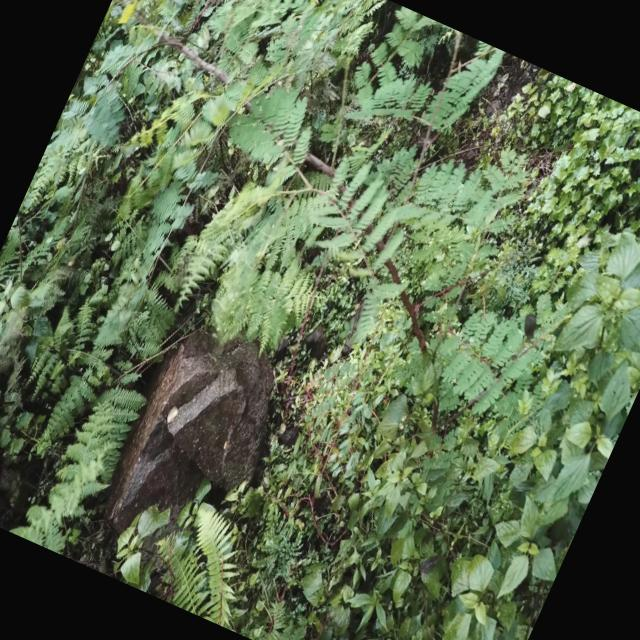Mysore-Thorn-Weed: (13, 0, 595, 466)
